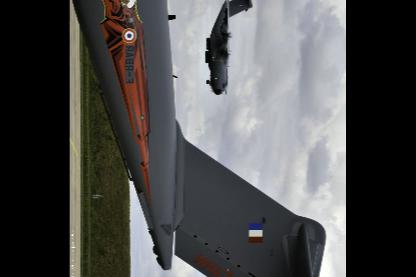A400M: (70, 0, 327, 276), (205, 0, 254, 96)
